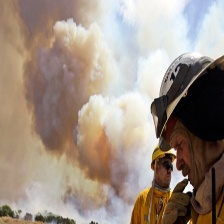smoke: (2, 4, 136, 218)
